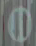Two way: (3, 2, 35, 44)
